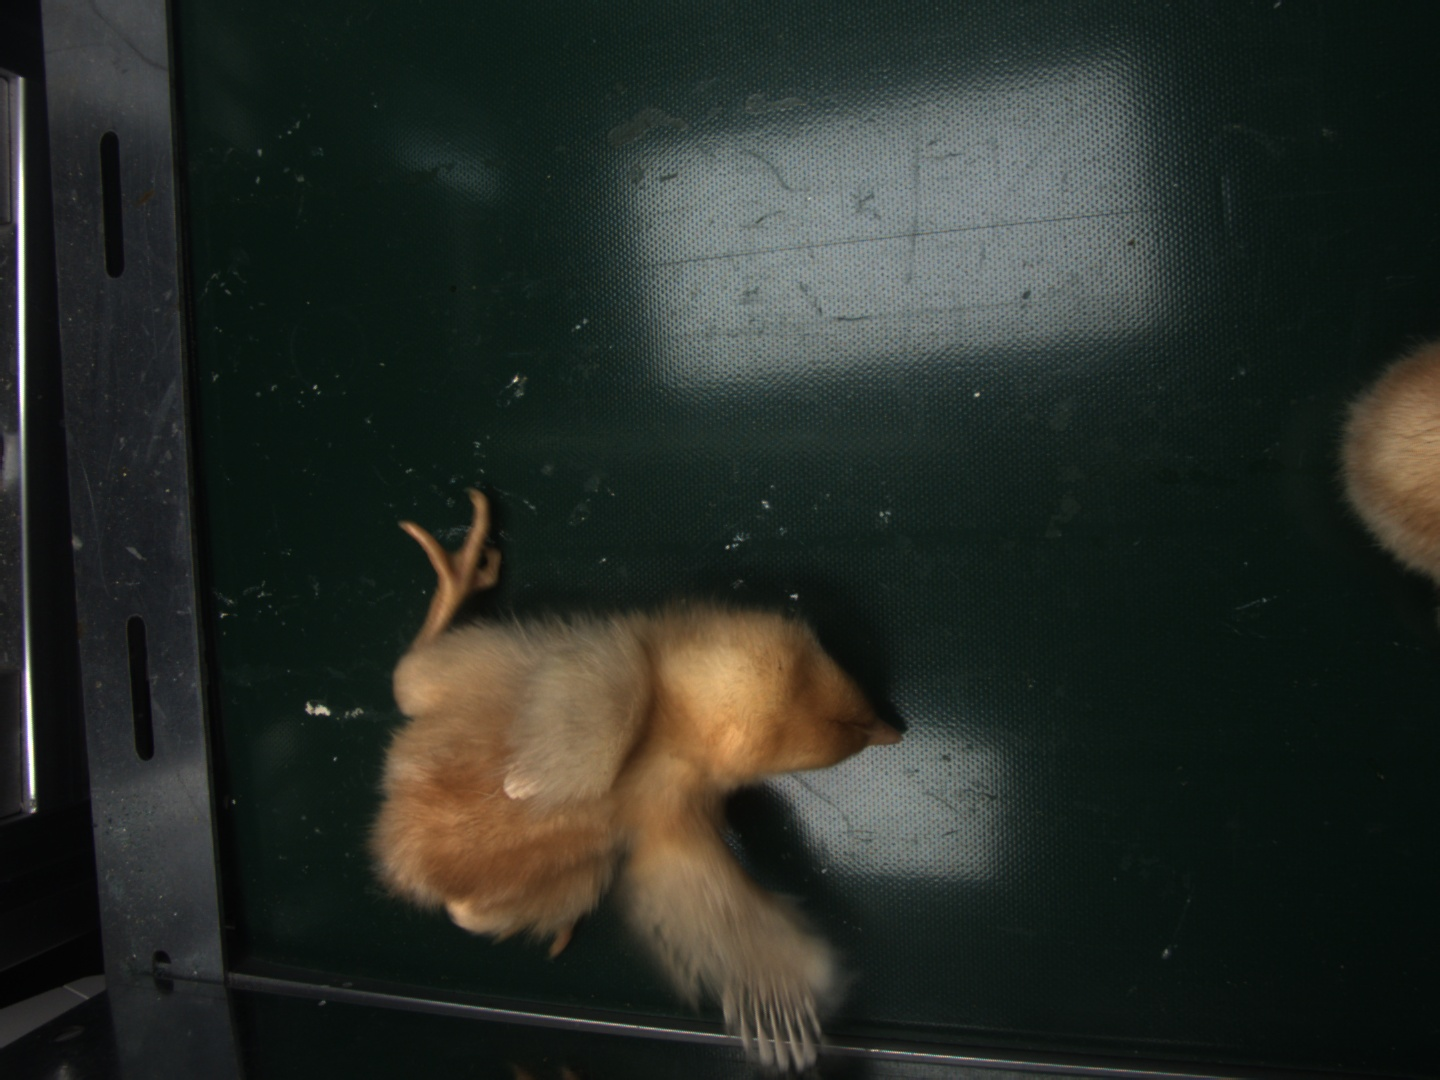female: (729, 976, 825, 1072)
